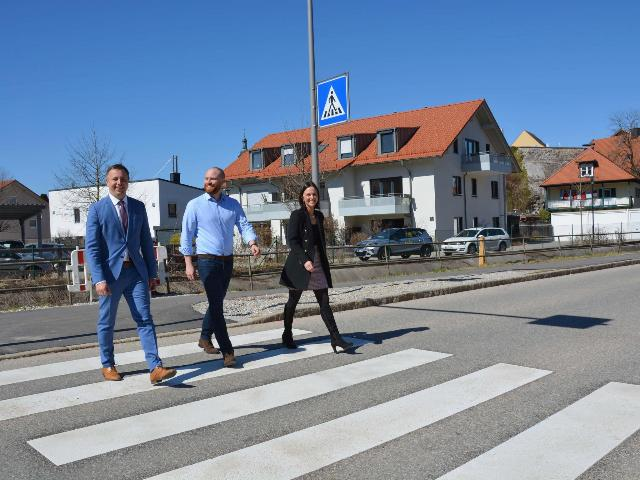crosswalk-sign: (317, 73, 350, 130)
